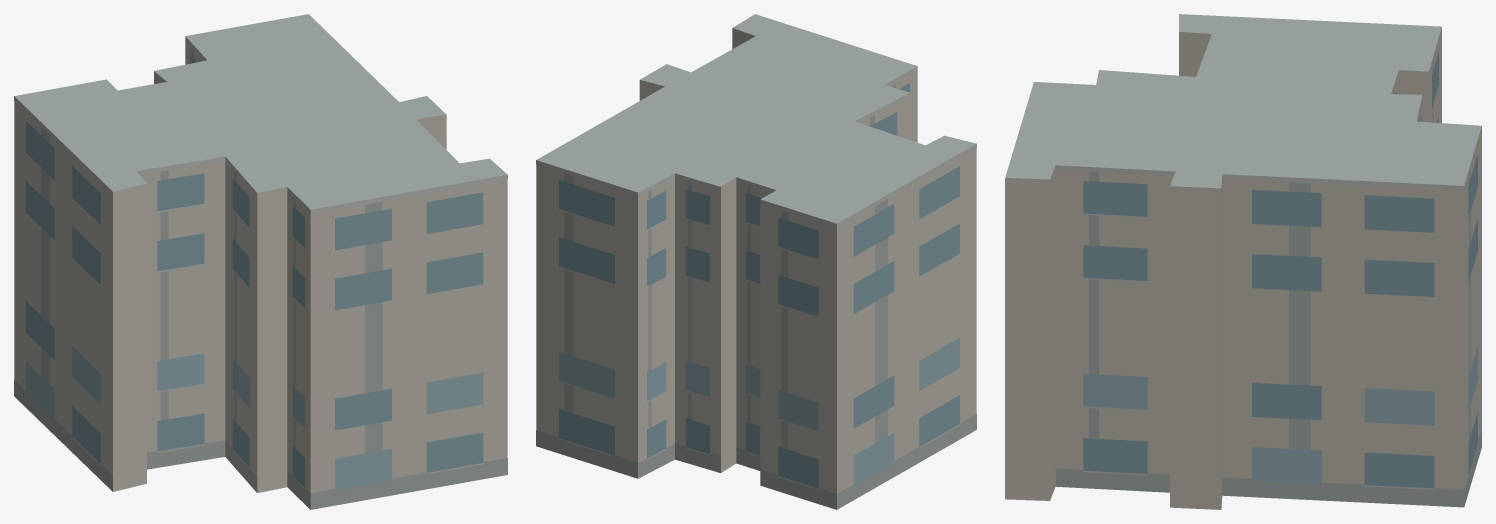
File: survey-upis-32868714.glb
The picture shows the model from 3 angles, left to right: view 1: azimuth 30°, elevation 25°; view 2: azimuth 150°, elevation 25°; view 3: azimuth 270°, elevation 25°; orthographic projection. The views are drawn at different scales.
Visible parts, largest first — view 1: survey-upis-32868714.tmp; view 2: survey-upis-32868714.tmp; view 3: survey-upis-32868714.tmp.
Part boxes in pixels (box(x1,y1,x2,y2)): survey-upis-32868714.tmp: box(14, 14, 507, 509); survey-upis-32868714.tmp: box(536, 14, 976, 509); survey-upis-32868714.tmp: box(1005, 14, 1481, 509).
Bounding box in the file's own units: 17.75 × 15.25 × 20.5.
